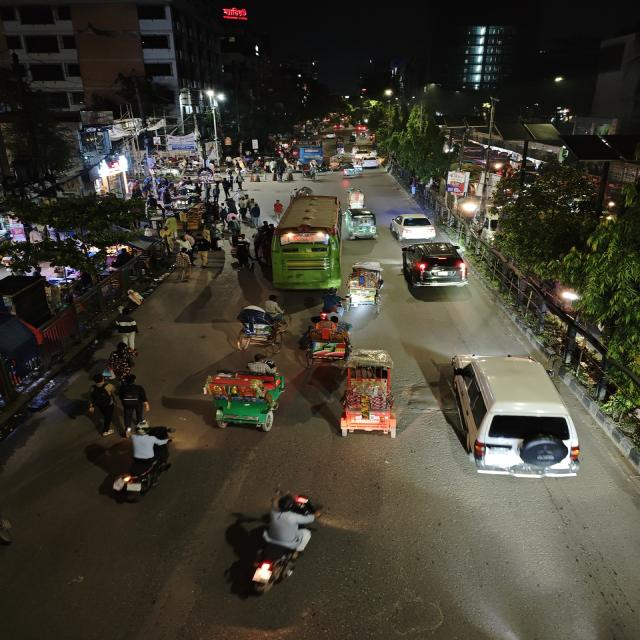bicycle: (100, 341, 138, 381)
bus: (266, 194, 343, 294), (292, 140, 326, 161)
car: (436, 348, 586, 489), (397, 240, 472, 294), (388, 211, 438, 241), (360, 156, 381, 169), (354, 147, 373, 161)
cng: (343, 208, 379, 242)
motorcycle: (242, 486, 328, 596), (115, 423, 178, 503)
pedestrian: (82, 376, 130, 438), (110, 372, 150, 437), (108, 306, 144, 348), (228, 234, 254, 272), (117, 287, 146, 313), (192, 235, 213, 269), (174, 248, 195, 282), (160, 214, 181, 246), (224, 200, 241, 232), (208, 222, 225, 252), (246, 198, 262, 224), (270, 199, 285, 221), (242, 198, 254, 224), (305, 165, 316, 181), (277, 168, 288, 182)
rickshaw: (320, 349, 413, 444), (198, 355, 290, 435), (229, 301, 289, 354), (299, 314, 354, 366), (340, 260, 387, 311), (344, 187, 367, 208), (328, 158, 340, 172)
